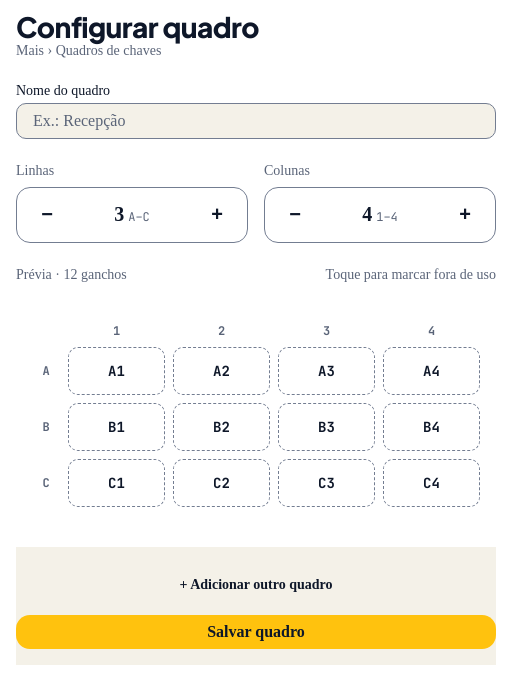
Test: QuadroForm (criar) › com todos os ganchos fora de uso o Salvar fica desabilitado
This screenshot has width=513, height=682.
Click the button named "Diminuir linhas": (47, 215) [25, 193, 69, 237]
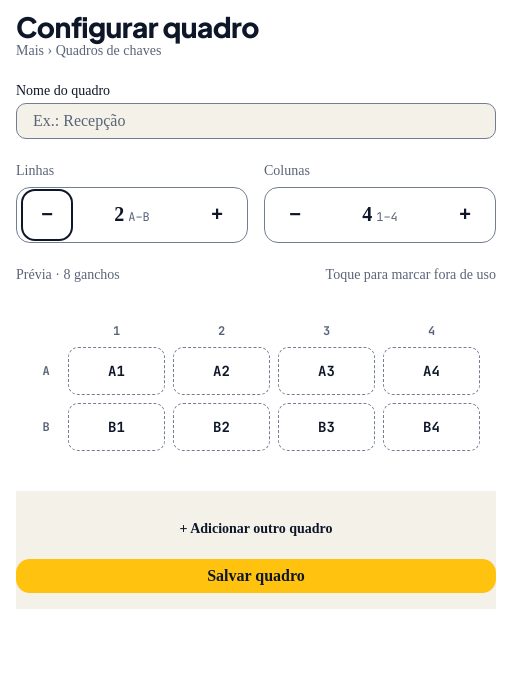
Click the button named "Diminuir linhas": (47, 215) [25, 193, 69, 237]
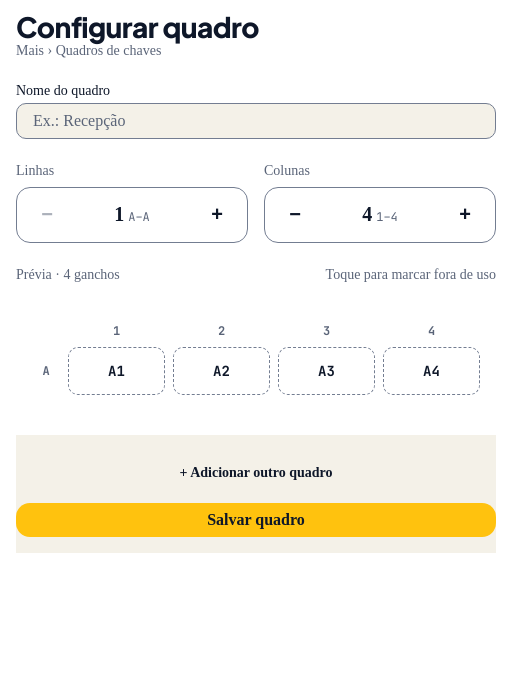
Click the button named "Diminuir colunas": (295, 215) [273, 193, 317, 237]
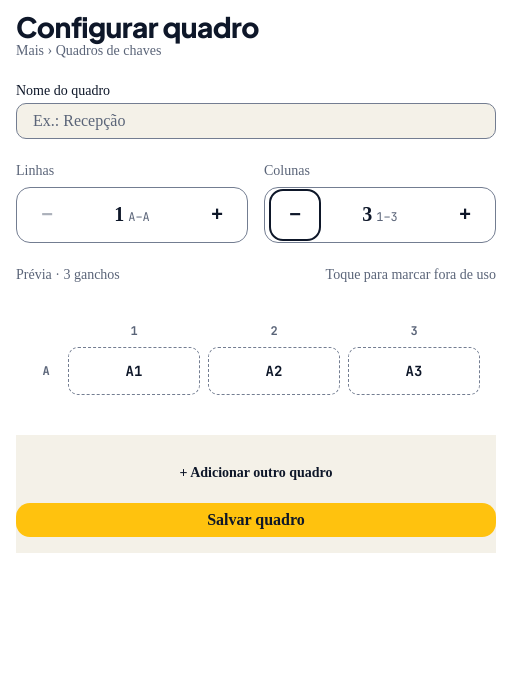
Click the button named "Diminuir colunas": (295, 215) [273, 193, 317, 237]
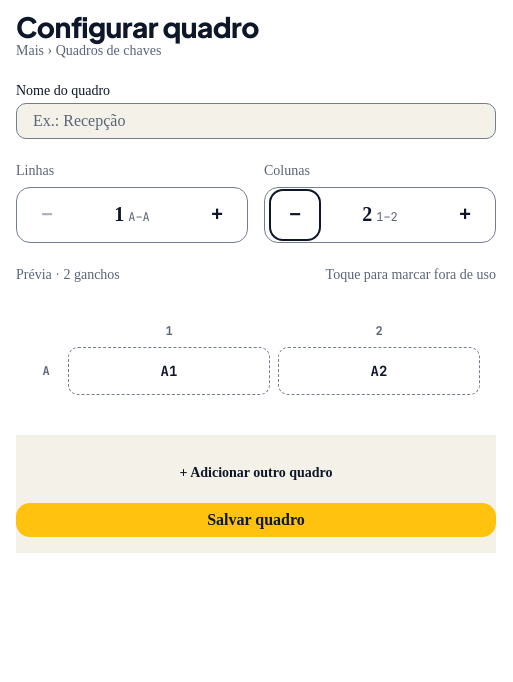
Click the button named "Diminuir colunas": (295, 215) [273, 193, 317, 237]
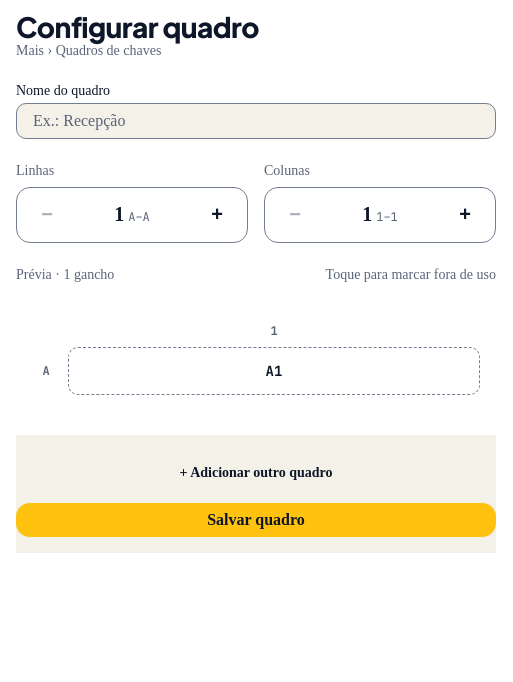
Click the button named "A1, em uso": (274, 371) [68, 347, 480, 395]
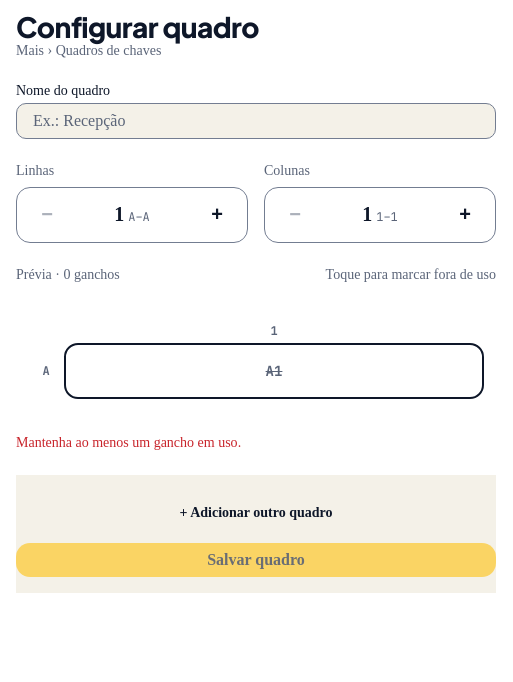
Expected: the button "Salvar quadro" is disabled, [16, 543, 496, 577]
Expected: the text "Mantenha ao menos um gancho em uso." is shown, [16, 435, 241, 450]
